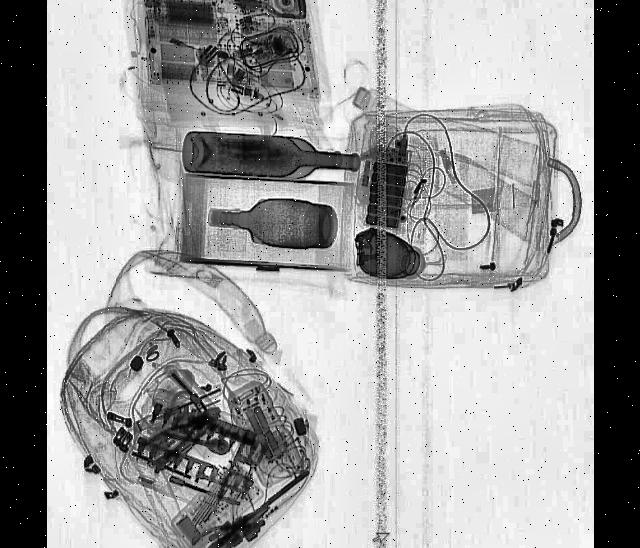Pliers: (144, 394, 226, 475), (187, 495, 272, 548)
